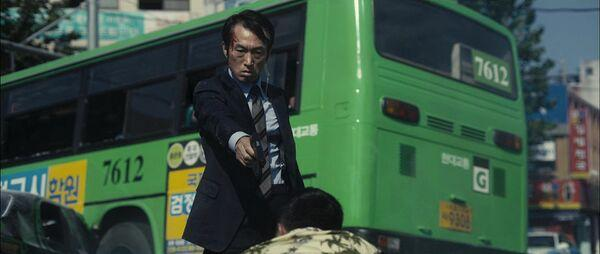Gun: (249, 133, 267, 170)
